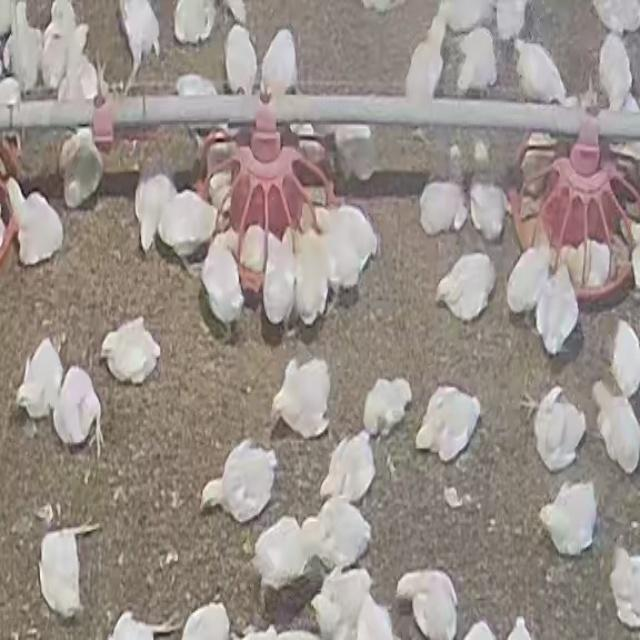chicken: (200, 440, 278, 526), (37, 518, 101, 619), (319, 202, 379, 296), (413, 382, 482, 463), (4, 175, 65, 266), (271, 356, 334, 442), (308, 564, 377, 640), (418, 145, 472, 240), (250, 516, 317, 592), (530, 386, 588, 472), (156, 187, 218, 264), (204, 232, 247, 343), (289, 219, 332, 329), (306, 498, 371, 570), (52, 365, 104, 454), (540, 479, 599, 556), (395, 568, 458, 640), (591, 381, 639, 474), (132, 152, 176, 253), (16, 337, 66, 425), (535, 262, 581, 356), (319, 432, 377, 506), (434, 251, 496, 320), (472, 136, 512, 242), (100, 317, 161, 385), (260, 227, 298, 330), (403, 10, 446, 101), (512, 40, 569, 107), (59, 125, 104, 209), (506, 243, 552, 314), (362, 376, 412, 439), (454, 26, 497, 96), (597, 35, 634, 112), (260, 27, 297, 100), (606, 321, 640, 398), (224, 24, 258, 96)
